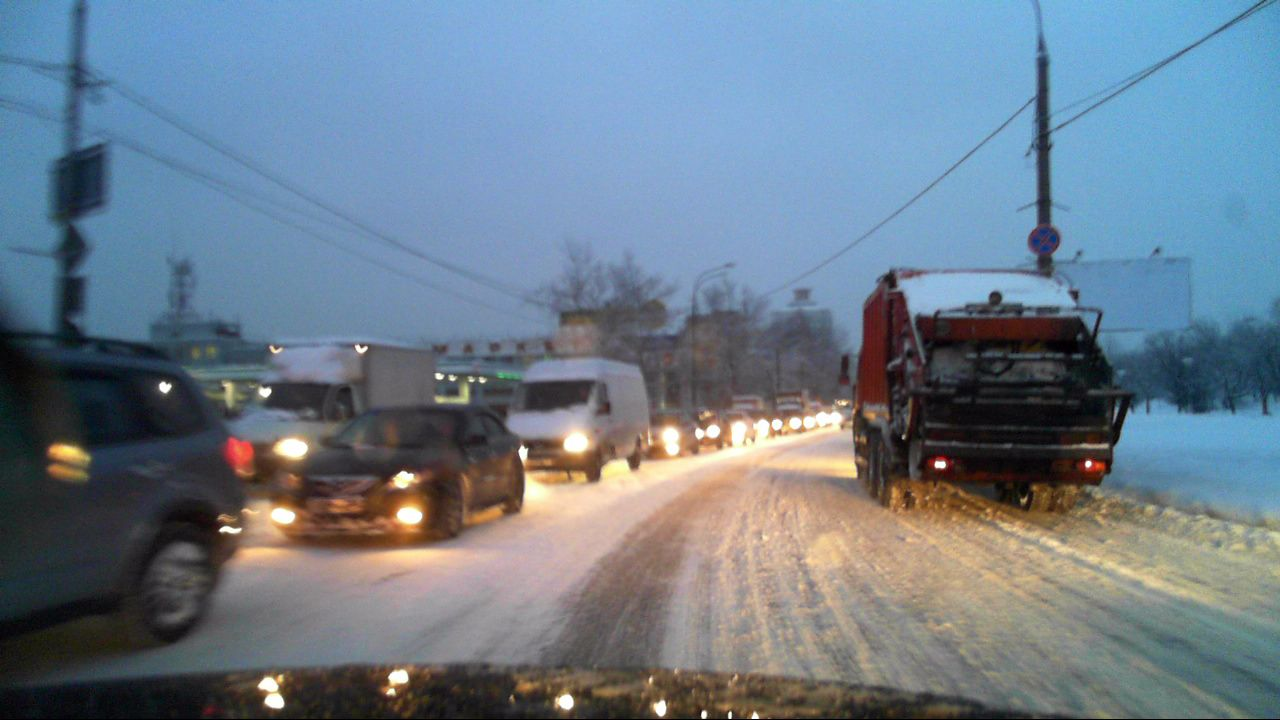No Parking: (1023, 224, 1062, 256)
